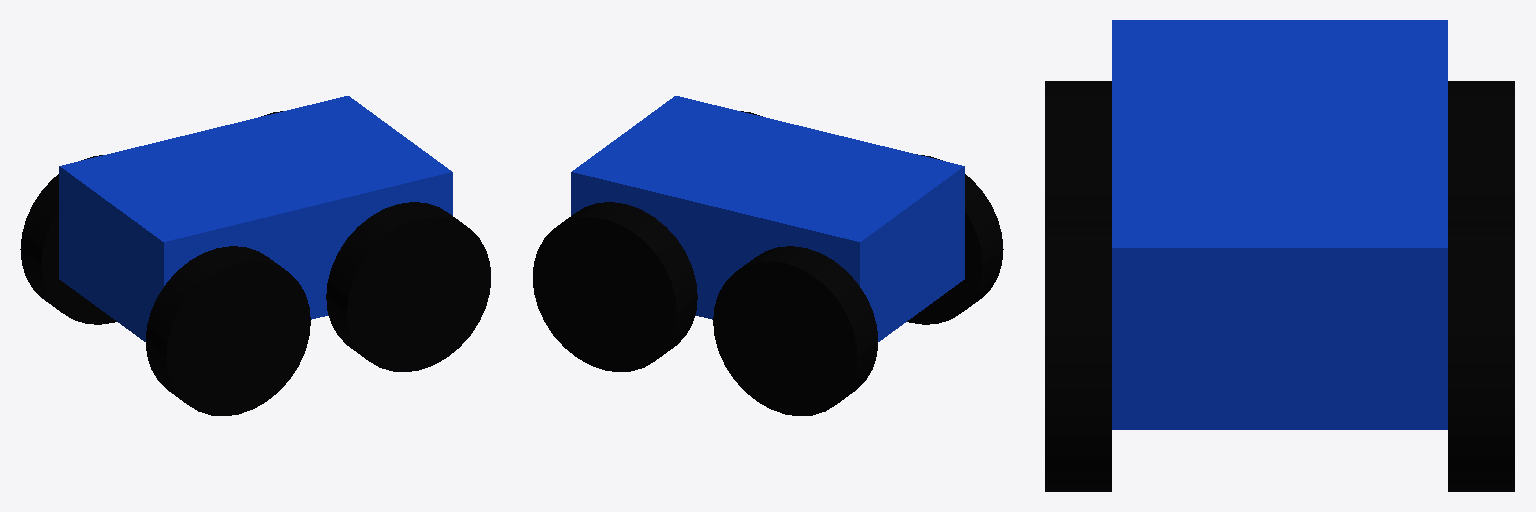
URDF robot description (lunar_rover):
<?xml version="1.0"?>
<robot name="lunar_rover">
  <material name="blue"><color rgba="0.1 0.3 0.8 1"/></material>
  <material name="black"><color rgba="0.05 0.05 0.05 1"/></material>

  <link name="base_link">
    <inertial>
      <mass value="20.0"/>
      <inertia ixx="0.57" ixy="0.0" ixz="0.0" iyy="1.22" iyz="0.0" izz="1.48"/>
    </inertial>
    <visual>
      <geometry><box size="0.8 0.5 0.3"/></geometry>
      <material name="blue"/>
    </visual>
    <collision>
      <geometry><box size="0.8 0.5 0.3"/></geometry>
    </collision>
  </link>

  <link name="front_left_wheel">
    <inertial>
      <mass value="3.0"/>
      <inertia ixx="0.05" ixy="0.0" ixz="0.0" iyy="0.05" iyz="0.0" izz="0.05"/>
    </inertial>
    <visual>
      <geometry><cylinder radius="0.2" length="0.1"/></geometry>
      <material name="black"/>
    </visual>
    <collision>
      <geometry><cylinder radius="0.2" length="0.1"/></geometry>
    </collision>
  </link>
  <joint name="front_left_wheel_joint" type="continuous">
    <parent link="base_link"/>
    <child link="front_left_wheel"/>
    <origin xyz="0.25 0.3 -0.1" rpy="-1.5707 0 0"/>
    <axis xyz="0 0 1"/>
  </joint>
  <gazebo reference="front_left_wheel">
    <mu1>0.9</mu1>
    <mu2>0.9</mu2>
  </gazebo>

  <link name="front_right_wheel">
    <inertial>
      <mass value="3.0"/>
      <inertia ixx="0.05" ixy="0.0" ixz="0.0" iyy="0.05" iyz="0.0" izz="0.05"/>
    </inertial>
    <visual>
      <geometry><cylinder radius="0.2" length="0.1"/></geometry>
      <material name="black"/>
    </visual>
    <collision>
      <geometry><cylinder radius="0.2" length="0.1"/></geometry>
    </collision>
  </link>
  <joint name="front_right_wheel_joint" type="continuous">
    <parent link="base_link"/>
    <child link="front_right_wheel"/>
    <origin xyz="0.25 -0.3 -0.1" rpy="-1.5707 0 0"/>
    <axis xyz="0 0 1"/>
  </joint>
  <gazebo reference="front_right_wheel">
    <mu1>0.9</mu1>
    <mu2>0.9</mu2>
  </gazebo>

  <link name="rear_left_wheel">
    <inertial>
      <mass value="3.0"/>
      <inertia ixx="0.05" ixy="0.0" ixz="0.0" iyy="0.05" iyz="0.0" izz="0.05"/>
    </inertial>
    <visual>
      <geometry><cylinder radius="0.2" length="0.1"/></geometry>
      <material name="black"/>
    </visual>
    <collision>
      <geometry><cylinder radius="0.2" length="0.1"/></geometry>
    </collision>
  </link>
  <joint name="rear_left_wheel_joint" type="continuous">
    <parent link="base_link"/>
    <child link="rear_left_wheel"/>
    <origin xyz="-0.25 0.3 -0.1" rpy="-1.5707 0 0"/>
    <axis xyz="0 0 1"/>
  </joint>
  <gazebo reference="rear_left_wheel">
    <mu1>0.9</mu1>
    <mu2>0.9</mu2>
  </gazebo>

  <link name="rear_right_wheel">
    <inertial>
      <mass value="3.0"/>
      <inertia ixx="0.05" ixy="0.0" ixz="0.0" iyy="0.05" iyz="0.0" izz="0.05"/>
    </inertial>
    <visual>
      <geometry><cylinder radius="0.2" length="0.1"/></geometry>
      <material name="black"/>
    </visual>
    <collision>
      <geometry><cylinder radius="0.2" length="0.1"/></geometry>
    </collision>
  </link>
  <joint name="rear_right_wheel_joint" type="continuous">
    <parent link="base_link"/>
    <child link="rear_right_wheel"/>
    <origin xyz="-0.25 -0.3 -0.1" rpy="-1.5707 0 0"/>
    <axis xyz="0 0 1"/>
  </joint>
  <gazebo reference="rear_right_wheel">
    <mu1>0.9</mu1>
    <mu2>0.9</mu2>
  </gazebo>

  <gazebo>
    <plugin filename="ignition-gazebo-diff-drive-system"
            name="ignition::gazebo::systems::DiffDrive">
      <left_joint>front_left_wheel_joint</left_joint>
      <left_joint>rear_left_wheel_joint</left_joint>
      <right_joint>front_right_wheel_joint</right_joint>
      <right_joint>rear_right_wheel_joint</right_joint>
      <wheel_separation>0.6</wheel_separation>
      <wheel_radius>0.2</wheel_radius>
      <max_linear_acceleration>1.0</max_linear_acceleration>
      <topic>cmd_vel</topic>
      <odom_topic>odom</odom_topic>
      <frame_id>odom</frame_id>
      <child_frame_id>base_link</child_frame_id>
    </plugin>
  </gazebo>
</robot>

--- Facts derived from the render (not from the file) ---
3 views of the same robot in one strip: view 1: azimuth 30°, elevation 25°; view 2: azimuth 150°, elevation 25°; view 3: azimuth 270°, elevation 25° (orthographic).
Model lunar_rover with 5 links and 4 joints (4 continuous), rooted at base_link, posed every joint at zero.
Visible links, largest first — view 1: base_link, front_right_wheel, rear_right_wheel, rear_left_wheel; view 2: base_link, front_left_wheel, rear_left_wheel, rear_right_wheel; view 3: base_link, front_left_wheel, front_right_wheel, rear_left_wheel, rear_right_wheel.
Boxes of the visible links, x1,y1,x2,y2 form: base_link: [59, 96, 452, 341]; front_right_wheel: [326, 202, 490, 371]; rear_right_wheel: [146, 246, 310, 415]; rear_left_wheel: [20, 155, 116, 324]; base_link: [571, 96, 964, 341]; front_left_wheel: [533, 202, 697, 371]; rear_left_wheel: [713, 246, 877, 415]; rear_right_wheel: [907, 154, 1003, 324]; base_link: [1112, 20, 1447, 429]; front_left_wheel: [1448, 223, 1514, 491]; front_right_wheel: [1045, 223, 1111, 491]; rear_left_wheel: [1448, 81, 1514, 222]; rear_right_wheel: [1045, 81, 1111, 222].
Bounding box of the posed robot: 0.9 × 0.7 × 0.45 m (x, y, z).
Geometry: primitives only (box / cylinder / sphere), no mesh files.
